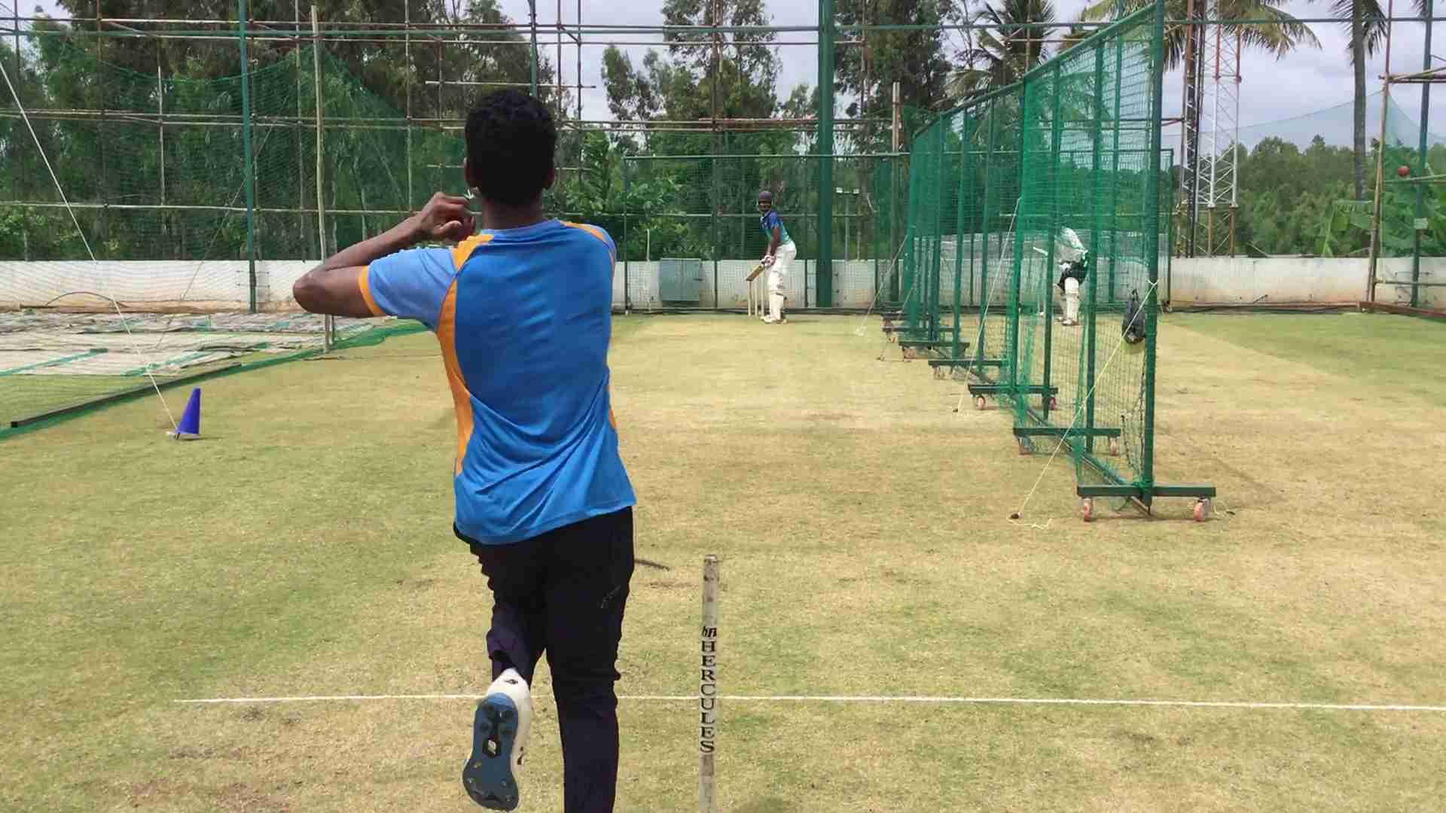batsman: (750, 186, 801, 326)
